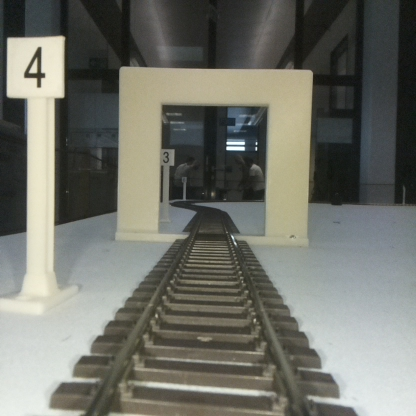white-info-3: (159, 148, 174, 223)
white-info-4: (7, 36, 64, 309)
